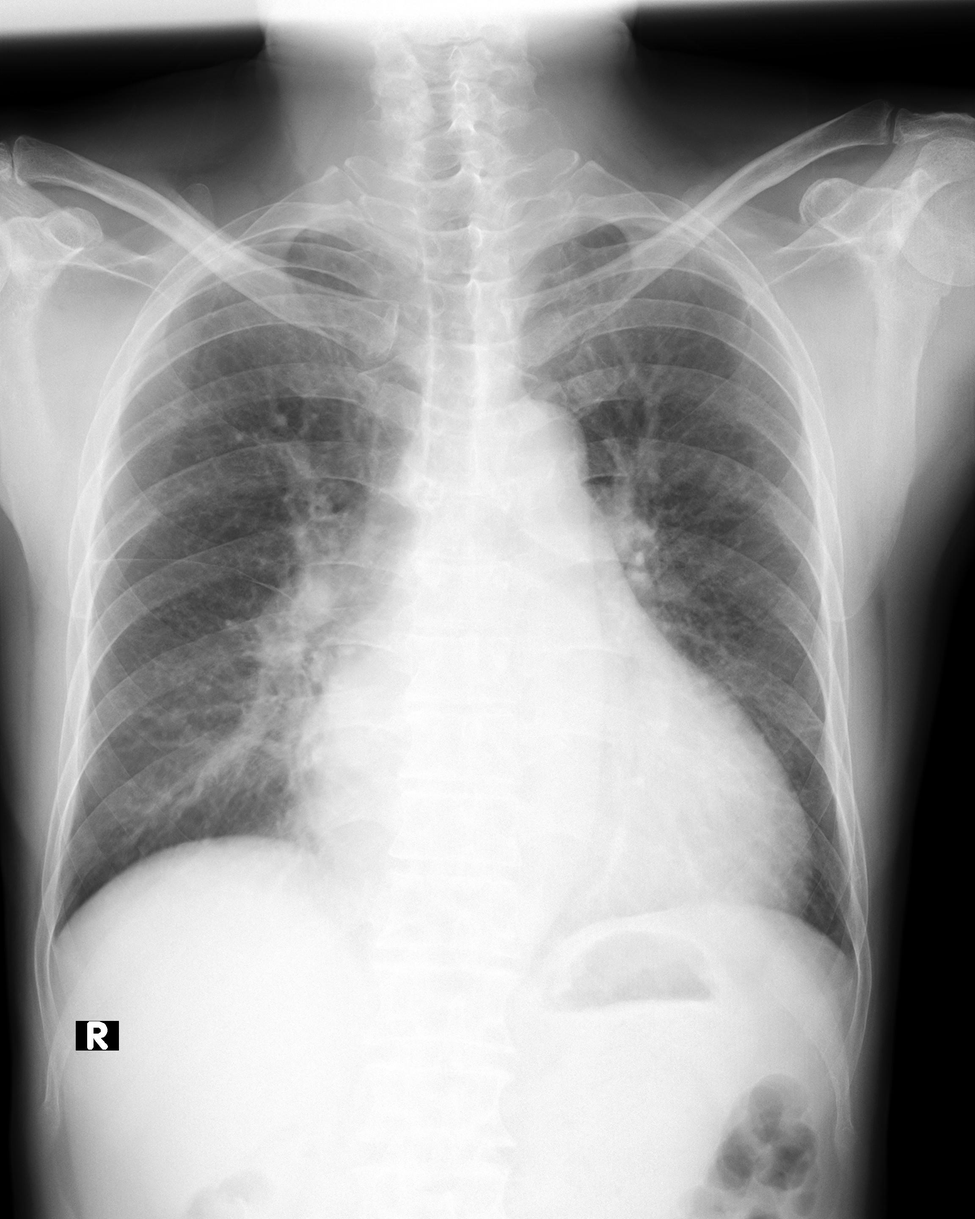Aortic enlargement: (474, 393, 589, 532)
Cardiomegaly: (281, 769, 808, 920)
